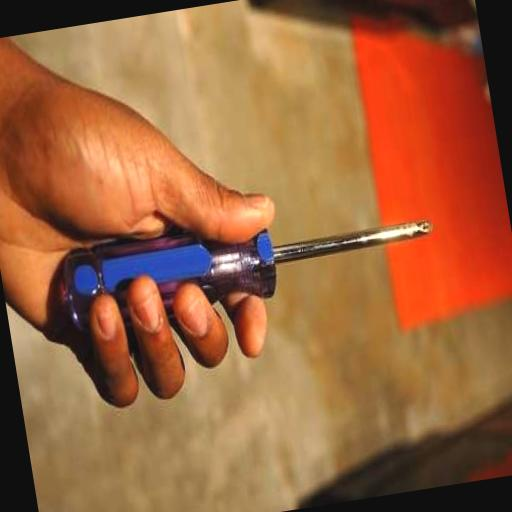screwdriver: (50, 192, 440, 332)
